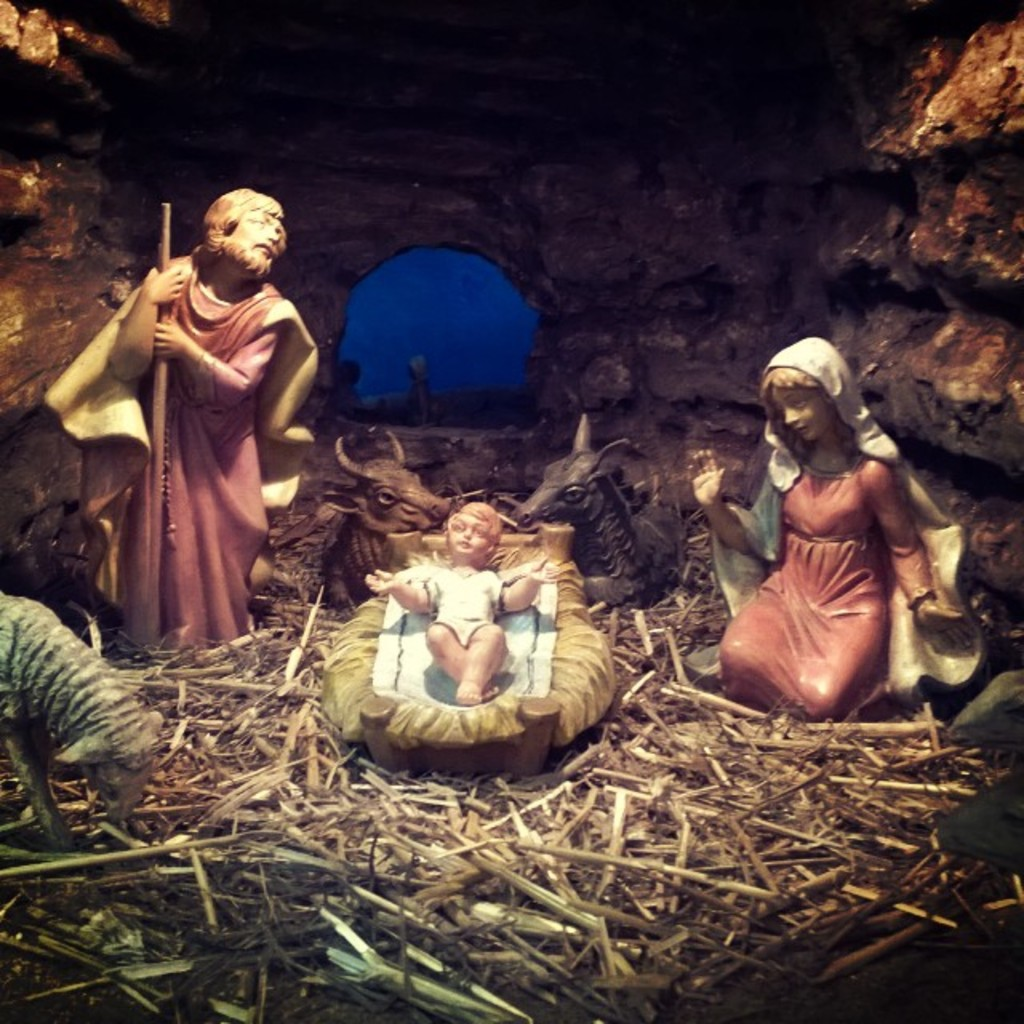Person: (367, 503, 562, 708)
